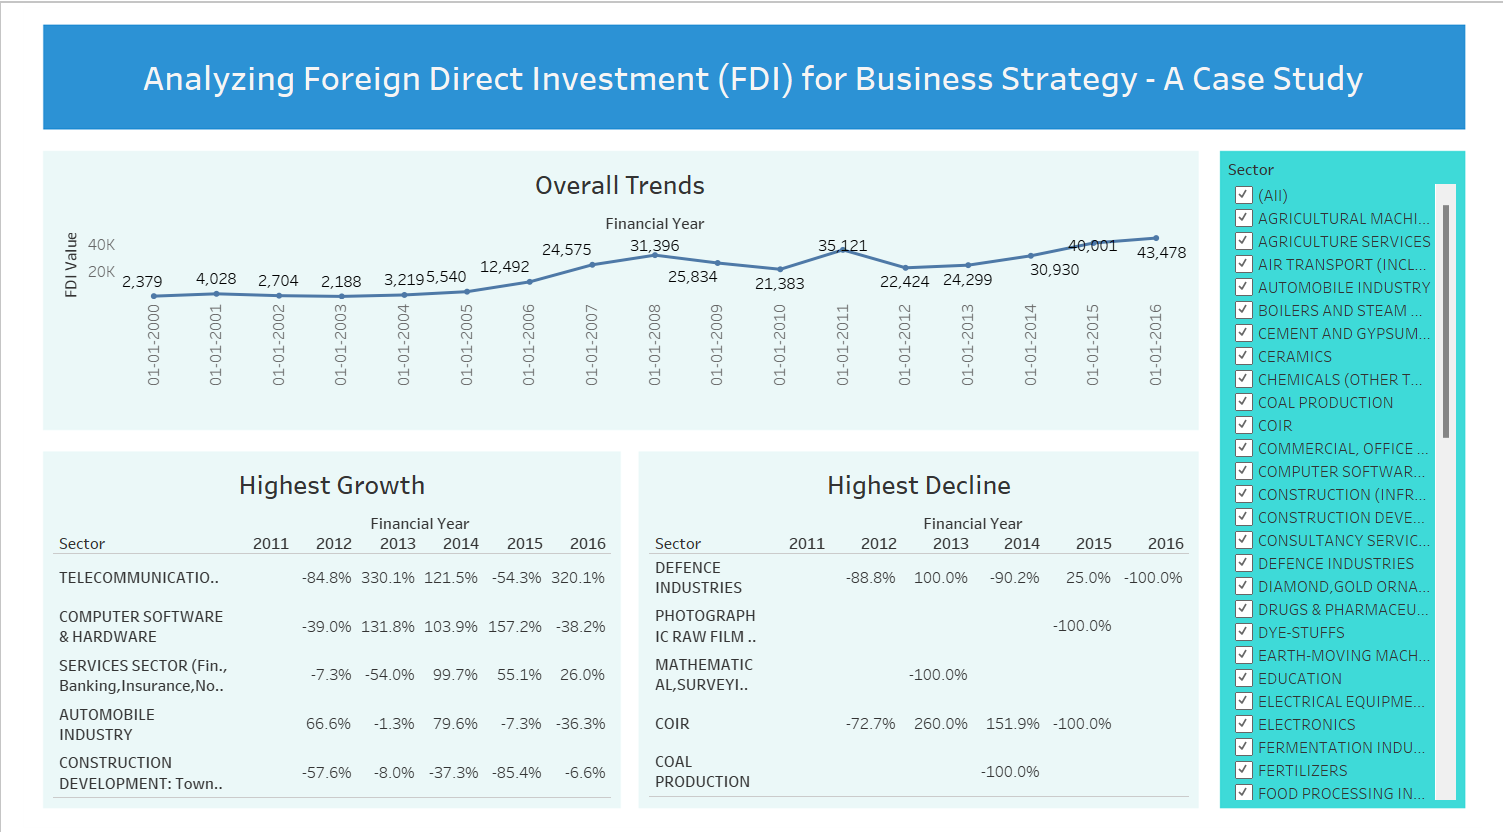

The dashboard page shown, as its layout file describes it:
{"tool":"tableau","page":{"name":"Dashboard 2","canvas":[1520,845],"ordinal":1},"visuals":[{"type":"image","param":"Image/background2.png","box":[8,8,1504,829]},{"type":"text","box":[53,35,1414,93]},{"type":"filter","title":"Overall Trends","param":"[federated.1mnctoj0rsr9751bx7hz61ybesey].[none:Sector:nk]","box":[1231,160,236,649]},{"type":"worksheet","title":"Overall Trends","mark":"Automatic","rows":["Pivot Field Values"],"cols":["Calculation_905505052140564480"],"box":[56,164,1142,263]},{"type":"worksheet","title":"Highest Growth","mark":"Automatic","rows":["Sector"],"cols":["Calculation_905505052140564480"],"box":[56,464,566,344]},{"type":"worksheet","title":"Highest Decline","mark":"Automatic","rows":["Sector"],"cols":["Calculation_905505052140564480"],"box":[652,464,548,342]}]}

Visuals, with their boxes in screenshot pixels (x1, y1, x2, y2), scaled from the page's 1520x845 canvas onto the 1503x832 screenshot:
image: x1=8, y1=8, x2=1495, y2=824
text: x1=52, y1=34, x2=1451, y2=126
"Overall Trends" filter: x1=1217, y1=158, x2=1451, y2=797
"Overall Trends" worksheet: x1=55, y1=161, x2=1185, y2=420
"Highest Growth" worksheet: x1=55, y1=457, x2=615, y2=796
"Highest Decline" worksheet: x1=645, y1=457, x2=1187, y2=794
